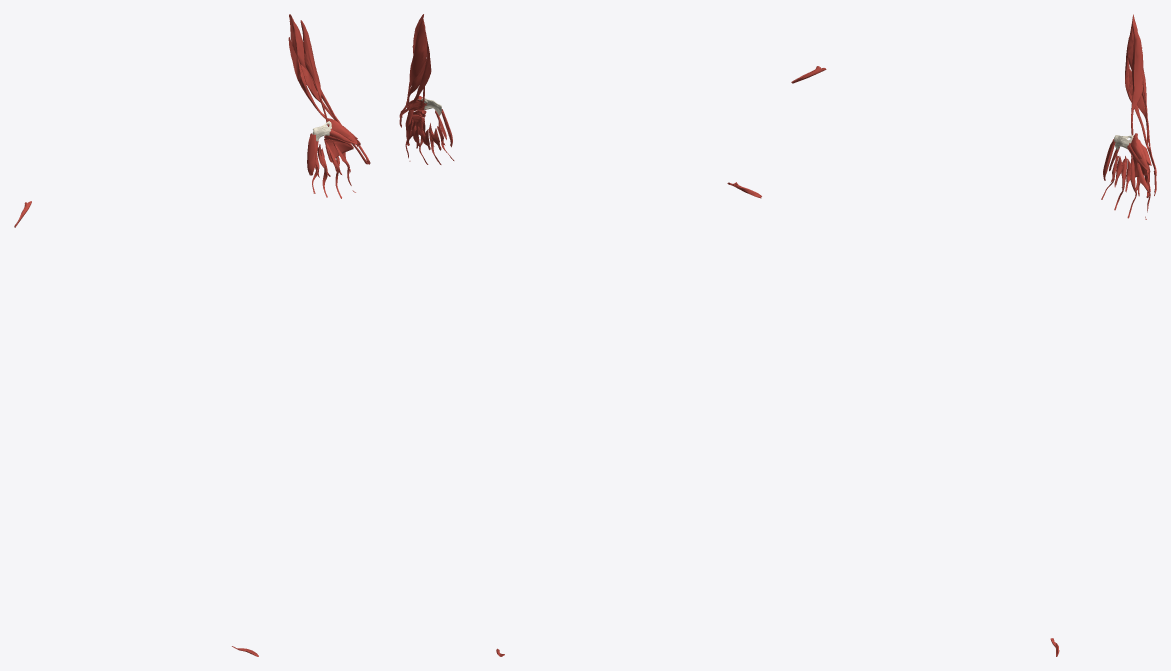
The model's file is handm.glb.
3 views of the same model, side by side, from view 1: azimuth 30°, elevation 25°; view 2: azimuth 150°, elevation 25°; view 3: azimuth 330°, elevation 25° (orthographic). The views are drawn at different scales.
Parts seen in each view (by area): view 1: left flexor pollicis longus, left abductor pollicis longus, set of lumbricals of left hand, left extensor pollicis longus; view 2: left abductor pollicis longus, set of dorsal interossei of left hand; view 3: left flexor pollicis longus, set of lumbricals of left hand.
Part boxes in pixels (x1,y1,x2,y2): left flexor pollicis longus: [300, 20, 368, 164]; left abductor pollicis longus: [289, 14, 341, 124]; set of lumbricals of left hand: [312, 140, 355, 198]; left extensor pollicis longus: [288, 37, 370, 164]; left abductor pollicis longus: [407, 17, 426, 105]; set of dorsal interossei of left hand: [406, 110, 441, 150]; left flexor pollicis longus: [1131, 23, 1150, 194]; set of lumbricals of left hand: [1101, 154, 1150, 219].
Bounding box in the file's own units: 0.6206 × 1.04 × 0.0958.
